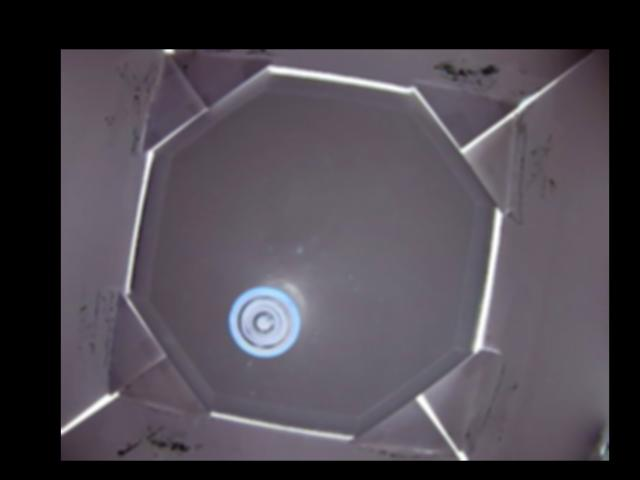Battery: (229, 282, 305, 353)
